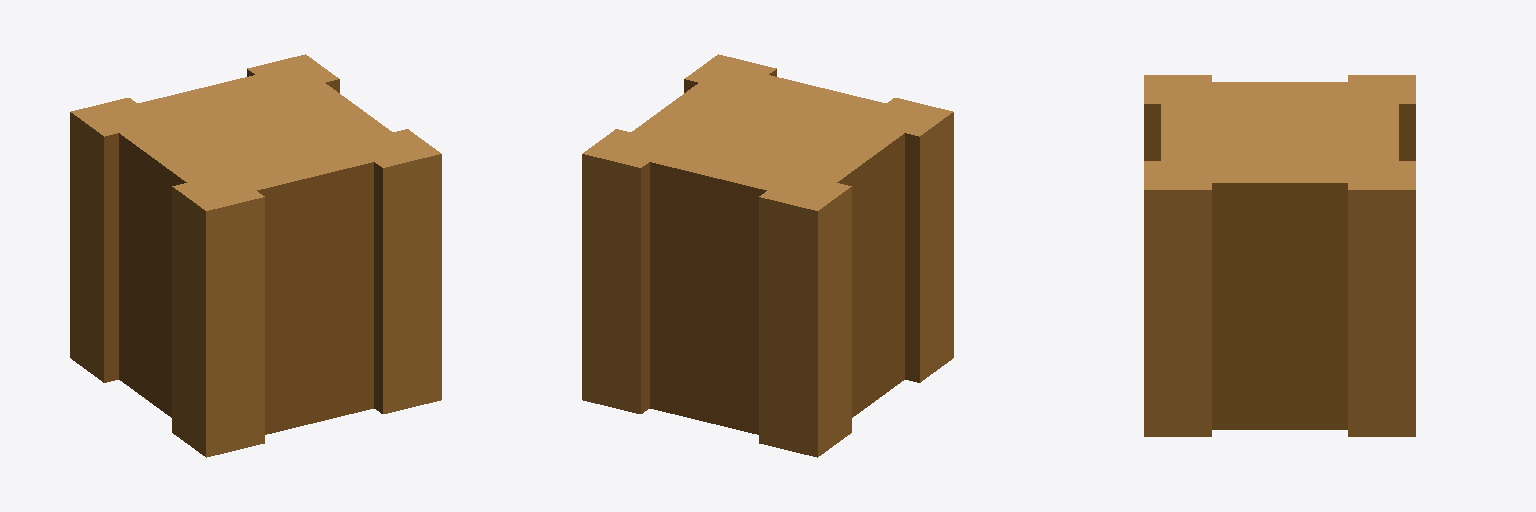
3 views of the same model, side by side, from view 1: azimuth 30°, elevation 25°; view 2: azimuth 150°, elevation 25°; view 3: azimuth 270°, elevation 25° (orthographic).
Parts seen in each view (by area): view 1: cube; view 2: cube; view 3: cube.
Part boxes in pixels (x1,y1,x2,y2): cube: (70,54,441,457); cube: (582,54,953,457); cube: (1144,75,1415,436).
Bounding box in the file's own units: 1 × 1 × 1.
1 materials, 1 textured.